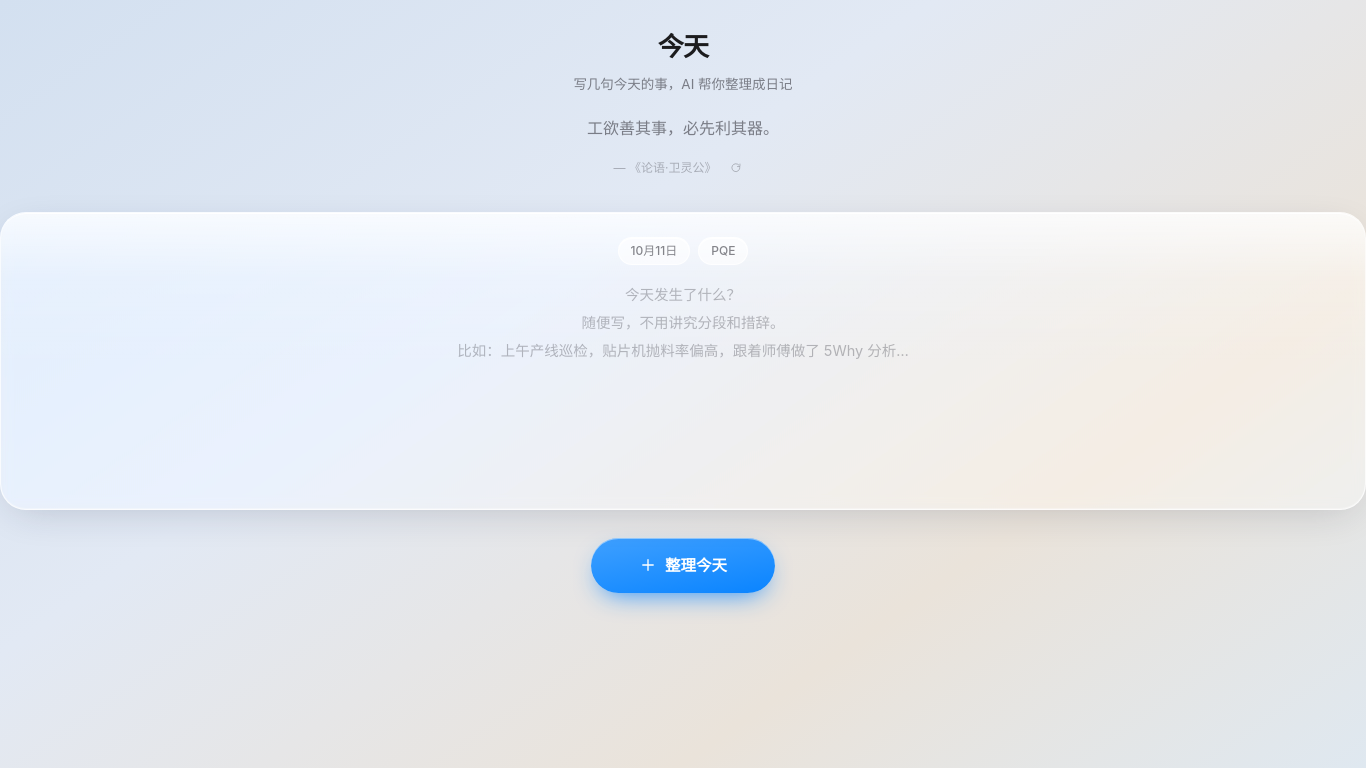
Scenario: DiaryCreatePage 顶部文案 › 点「换一句」会换成另一条
Expected: the text box with placeholder "今天发生了什么？ 随便写，不用讲究分段和措辞。 比如：上午产线巡检，贴片机抛料率偏高，跟着师傅做了 5Why 分析…" is shown, top-left (29, 281), bottom-right (1337, 479)
What coordinates should you click on to do the following:
click the button named "换一句"
I would click on:
 (736, 168)
Its box is top-left (720, 152), bottom-right (752, 184).
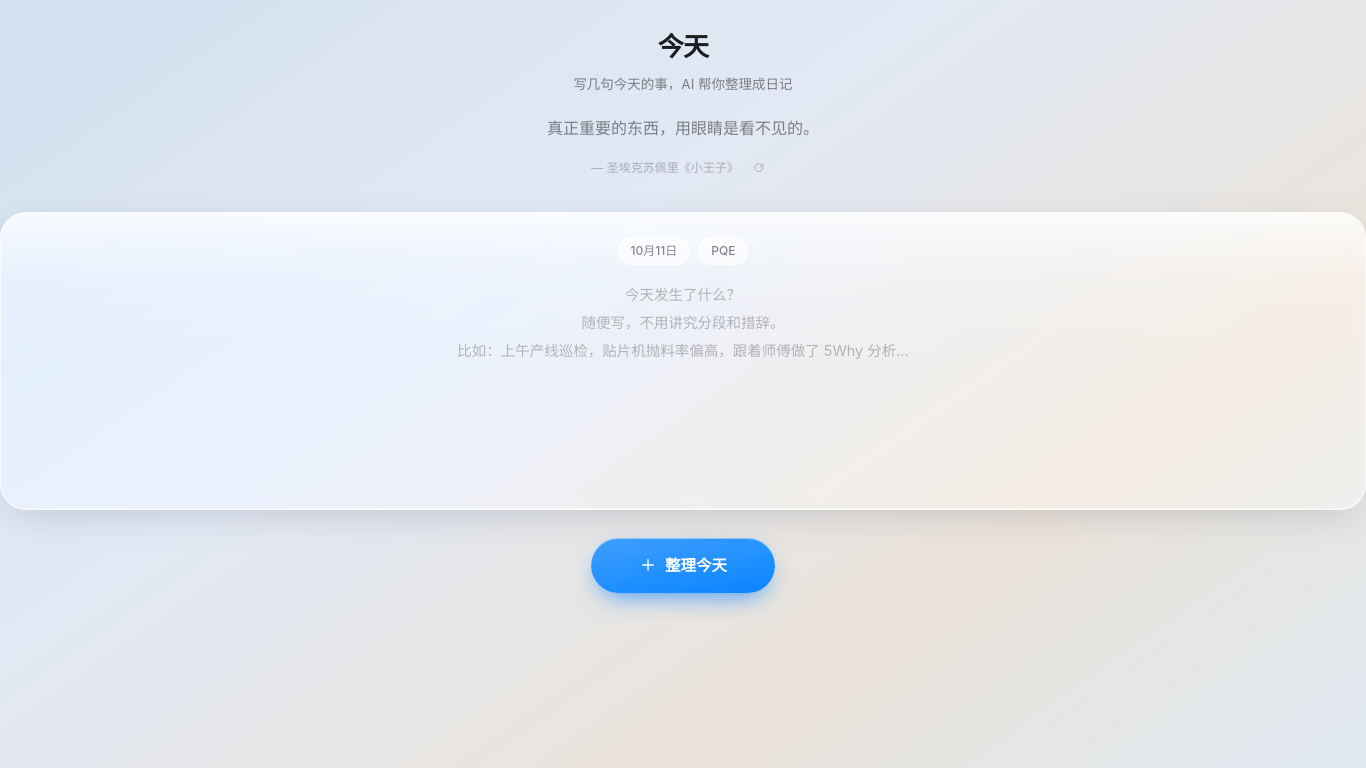
Result: the text "真正重要的东西，用眼睛是看不见的。" no longer shows "工欲善其事，必先利其器。"
